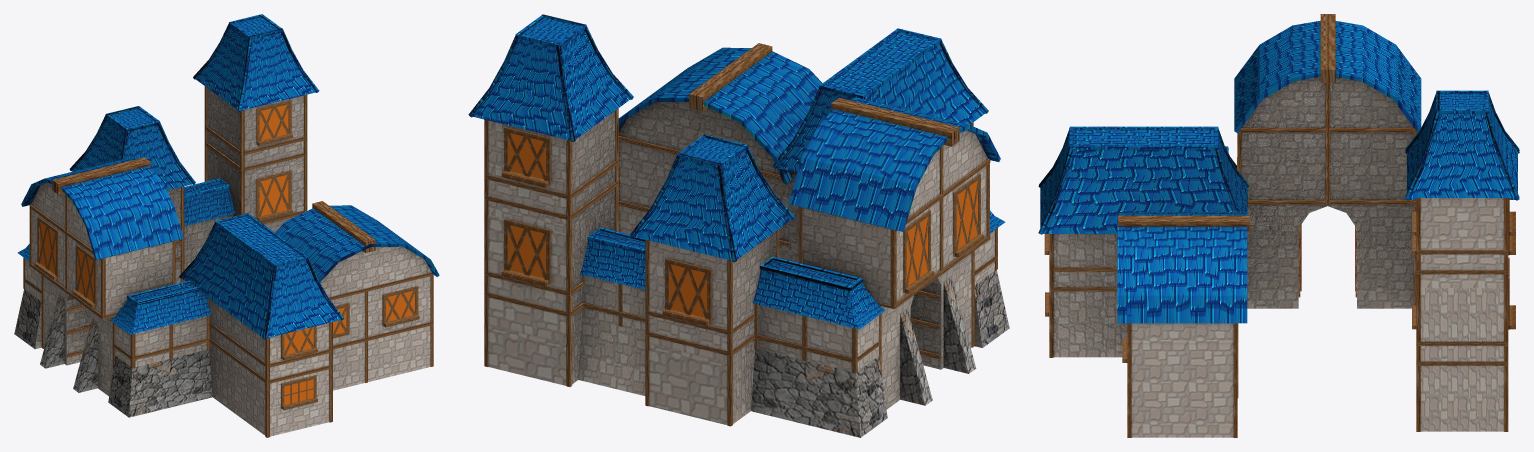
File: village_low_poly.obj
3 views of the same model, side by side, from view 1: azimuth 30°, elevation 25°; view 2: azimuth 150°, elevation 25°; view 3: azimuth 270°, elevation 25° (orthographic). The views are drawn at different scales.
Visible parts, largest first — view 1: Object001_01_-_Default_0, Box001_02_-_Default_0, Box016_03_-_Default_0, Object002_02_-_Default_0, Plane004_Solid_Glass_0; view 2: Box001_02_-_Default_0, Object001_01_-_Default_0, Box016_03_-_Default_0, Object002_02_-_Default_0, Plane004_Solid_Glass_0; view 3: Box001_02_-_Default_0, Object001_01_-_Default_0, Box016_03_-_Default_0.
Part boxes in pixels (x1=…): Object001_01_-_Default_0: x1=17, y1=14, x2=439, y2=339; Box001_02_-_Default_0: x1=25, y1=88, x2=431, y2=436; Box016_03_-_Default_0: x1=23, y1=86, x2=433, y2=437; Object002_02_-_Default_0: x1=14, y1=289, x2=212, y2=417; Plane004_Solid_Glass_0: x1=39, y1=104, x2=414, y2=404; Box001_02_-_Default_0: x1=488, y1=102, x2=994, y2=424; Object001_01_-_Default_0: x1=468, y1=14, x2=1004, y2=329; Box016_03_-_Default_0: x1=484, y1=43, x2=997, y2=426; Object002_02_-_Default_0: x1=751, y1=270, x2=1009, y2=437; Plane004_Solid_Glass_0: x1=508, y1=133, x2=977, y2=317; Box001_02_-_Default_0: x1=1053, y1=77, x2=1503, y2=437; Object001_01_-_Default_0: x1=1038, y1=20, x2=1519, y2=323; Box016_03_-_Default_0: x1=1044, y1=14, x2=1515, y2=437.
Bounding box in the file's own units: 0.9128 × 0.7358 × 1.03.
Materials: 5 (3 with a texture image).
